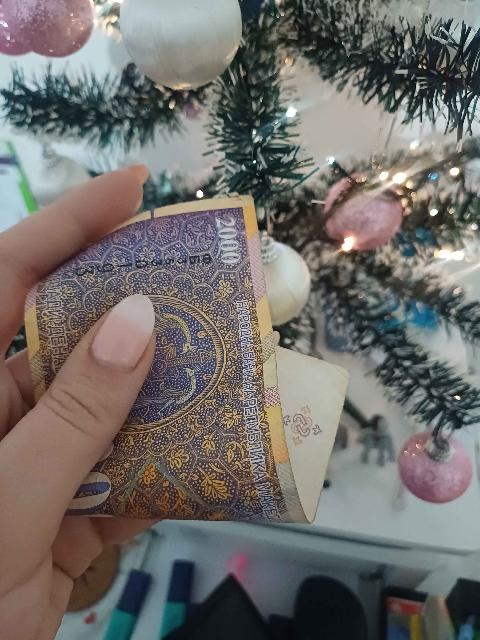2000_note: (26, 197, 310, 521)
